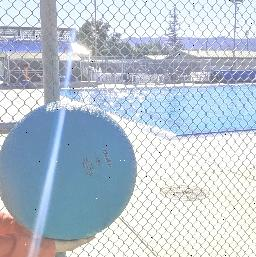algae: (0, 95, 141, 239)
